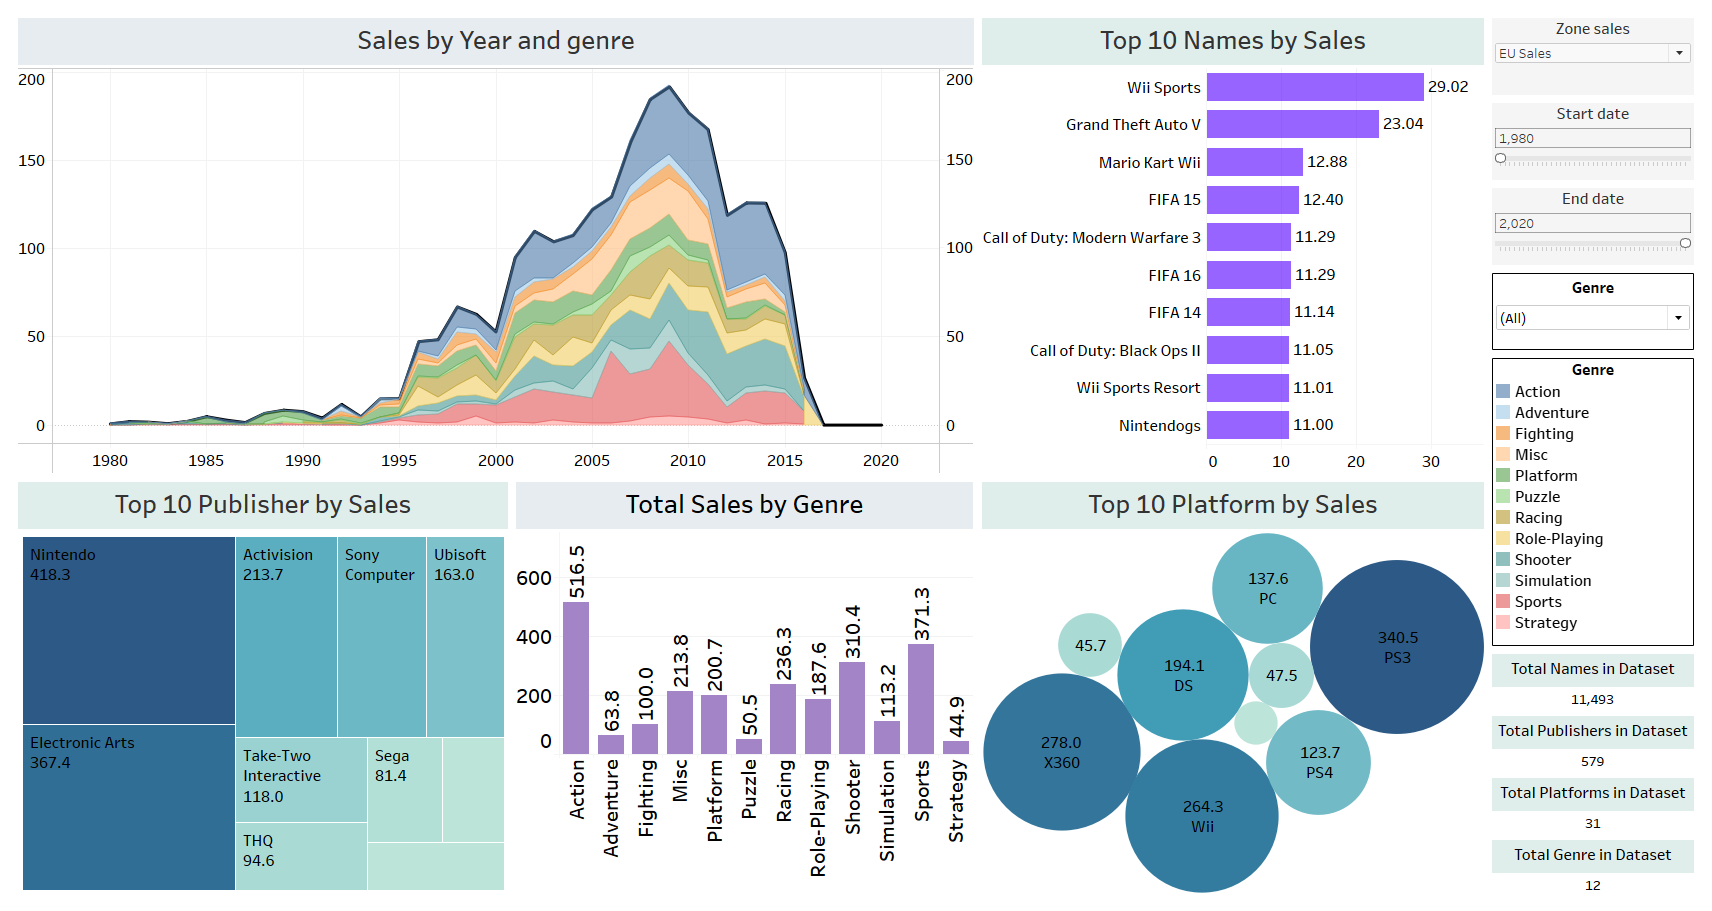

Layout of this report page (visuals, bound fields, positions):
{"tool":"tableau","page":{"name":"VideoGame_Sales Dashboard","canvas":[1700,900],"ordinal":0},"visuals":[{"type":"worksheet","title":"Sales by Year and genre","mark":"Automatic","rows":["Calculation_883268482870587394","Calculation_883268482870587394"],"cols":["Year"],"box":[8,8,963.9,464]},{"type":"worksheet","title":"Top 10 Names by Sales","mark":"Automatic","rows":["Name"],"cols":["Calculation_883268482870587394"],"box":[971.9,8,510.1,464]},{"type":"parameter","param":"[Parameters].[Parameter 1]","box":[1482,8,210,85]},{"type":"parameter","param":"[Parameters].[Parameter 2]","box":[1482,93,210,85]},{"type":"parameter","param":"[Parameters].[Parameter 3]","box":[1482,178,210,85]},{"type":"filter","title":"Sales by Year and genre","param":"[federated.1mt9uje071xyh912j284t0o9fcuq].[none:Genre:nk]","box":[1482,263,210,85]},{"type":"legend","title":"Sales by Year and genre","param":"[federated.1mt9uje071xyh912j284t0o9fcuq].[none:Genre:nk]","box":[1482,348,210,296]},{"type":"worksheet","title":"Top 10 Publisher by Sales","mark":"Automatic","box":[8,472,498.4,420]},{"type":"worksheet","title":"Total Sales by Genre","mark":"Automatic","rows":["Calculation_883268482870587394"],"cols":["Genre"],"box":[506.4,472,465.5,420]},{"type":"worksheet","title":"Top 10 Platform by Sales","mark":"Circle","box":[971.9,472,510.1,420]},{"type":"worksheet","title":"Total Names in Dataset","mark":"Automatic","box":[1482,644,210,62]},{"type":"worksheet","title":"Total Publishers in Dataset","mark":"Automatic","box":[1482,706,210,62]},{"type":"worksheet","title":"Total Platforms in Dataset","mark":"Automatic","box":[1482,768,210,62]},{"type":"worksheet","title":"Total Genre in Dataset","mark":"Automatic","box":[1482,830,210,62]}]}

Visuals, with their boxes in screenshot pixels (x1, y1, x2, y2), scaled from the page's 1700x900 canvas onto the 1712x911 screenshot:
"Sales by Year and genre" worksheet: box(8, 8, 979, 478)
"Top 10 Names by Sales" worksheet: box(979, 8, 1492, 478)
parameter: box(1492, 8, 1704, 94)
parameter: box(1492, 94, 1704, 180)
parameter: box(1492, 180, 1704, 266)
"Sales by Year and genre" filter: box(1492, 266, 1704, 352)
"Sales by Year and genre" legend: box(1492, 352, 1704, 652)
"Top 10 Publisher by Sales" worksheet: box(8, 478, 510, 903)
"Total Sales by Genre" worksheet: box(510, 478, 979, 903)
"Top 10 Platform by Sales" worksheet (Circle marks): box(979, 478, 1492, 903)
"Total Names in Dataset" worksheet: box(1492, 652, 1704, 715)
"Total Publishers in Dataset" worksheet: box(1492, 715, 1704, 777)
"Total Platforms in Dataset" worksheet: box(1492, 777, 1704, 840)
"Total Genre in Dataset" worksheet: box(1492, 840, 1704, 903)
